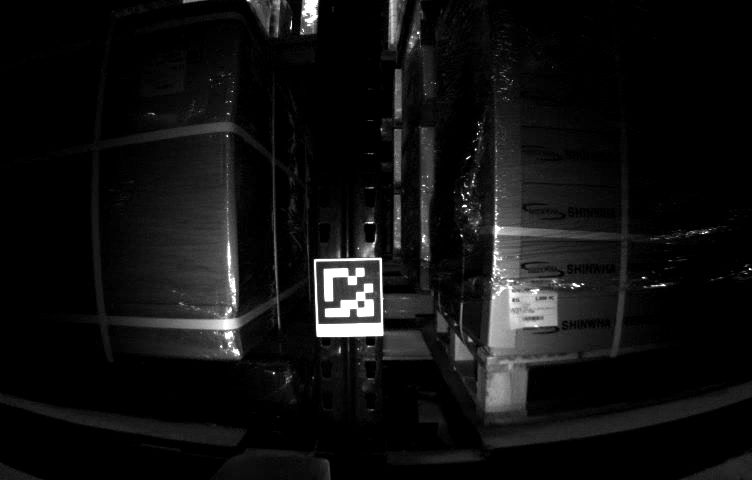True Barcode: (144, 56, 185, 92)
